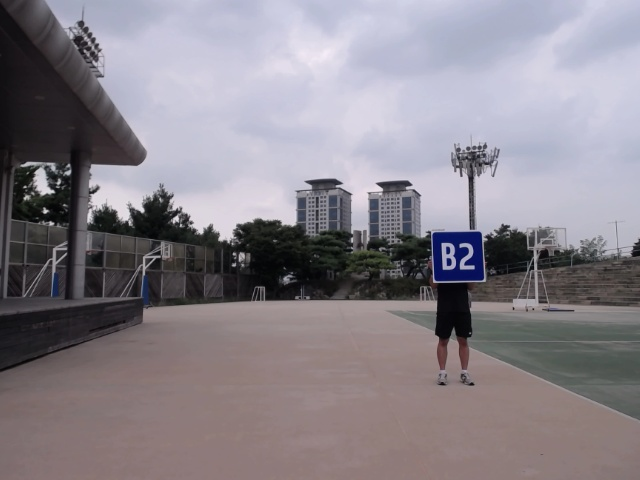delivery_b2: (430, 229, 486, 284)
